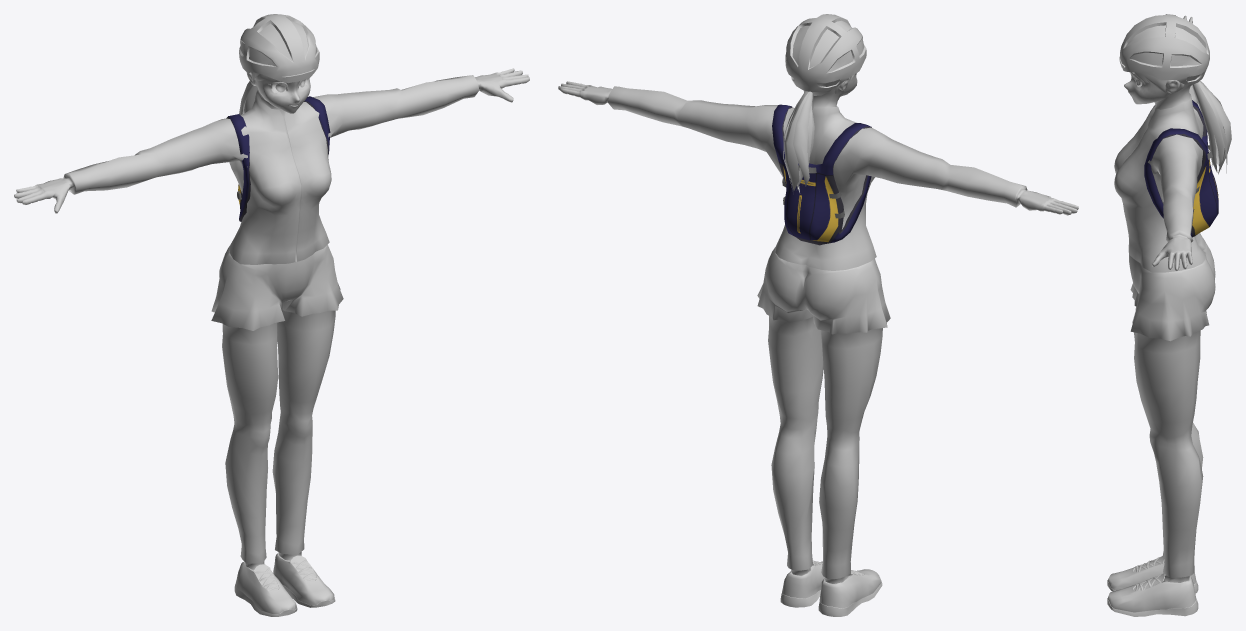
File: Player_CyclingGirl_bag1.fbx
3 renders of one model, left to right at view 1: azimuth 30°, elevation 25°; view 2: azimuth 150°, elevation 25°; view 3: azimuth 270°, elevation 25°, orthographic.
Parts seen in each view (by area): view 1: body, helmet, shoebody, bagbase; view 2: body, bagbase, helmet, shoebody, hair03, hair05; view 3: body, helmet, shoebody, bagbase, hair06, hair05, hairbody, hair07.
Boxes of the visible parts, x1,y1,x2,y2 form: body: (14, 68, 529, 569); helmet: (239, 14, 319, 83); shoebody: (234, 553, 335, 616); bagbase: (226, 96, 330, 221); body: (558, 74, 1078, 583); bagbase: (772, 104, 871, 245); helmet: (785, 14, 866, 91); shoebody: (780, 561, 882, 616); hair03: (793, 91, 812, 186); hair05: (785, 91, 809, 191); body: (1114, 15, 1215, 582); helmet: (1119, 14, 1209, 84); shoebody: (1107, 555, 1198, 616); bagbase: (1144, 100, 1218, 237); hair06: (1193, 81, 1224, 172); hair05: (1200, 81, 1231, 174); hairbody: (1129, 72, 1192, 92); hair07: (1200, 87, 1227, 173).
Bounding box in the file's own units: 53.21 × 57.4 × 11.14.
